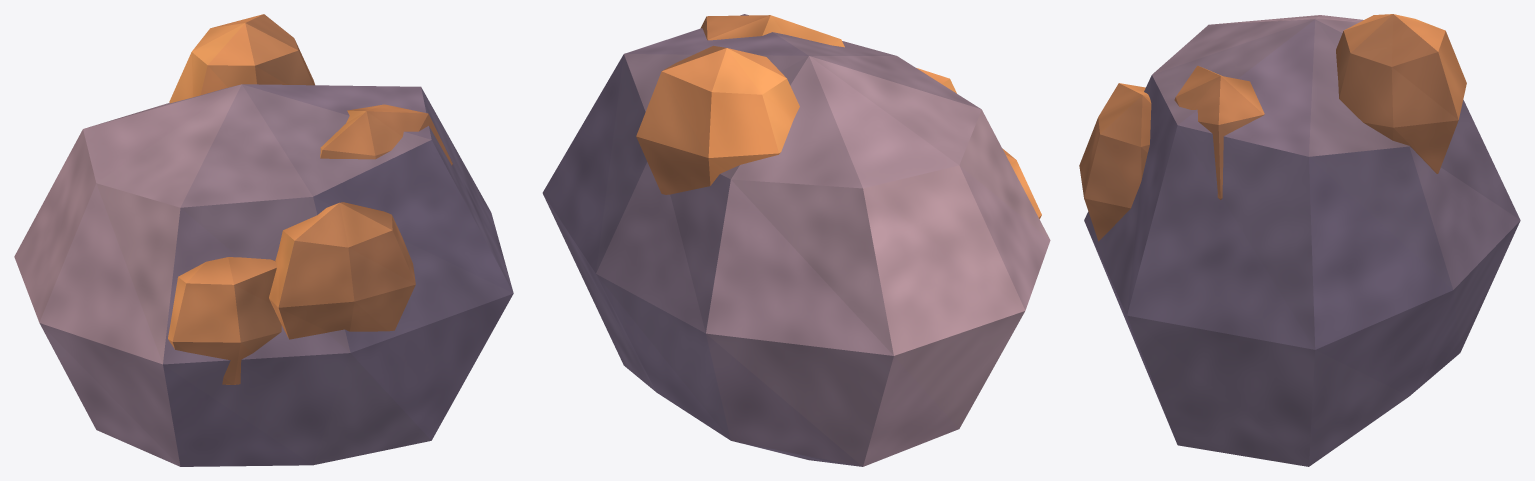
Rendered from resource_copper.glb.
3 views of the same model, side by side, from view 1: azimuth 30°, elevation 25°; view 2: azimuth 150°, elevation 25°; view 3: azimuth 270°, elevation 25° (orthographic). The views are drawn at different scales.
Visible parts, largest first — view 1: Kupferader mit freiliegendem Erz; view 2: Kupferader mit freiliegendem Erz; view 3: Kupferader mit freiliegendem Erz.
Part boxes in pixels (x1,y1,x2,y2): Kupferader mit freiliegendem Erz: [14, 14, 513, 466]; Kupferader mit freiliegendem Erz: [542, 14, 1050, 466]; Kupferader mit freiliegendem Erz: [1079, 14, 1520, 466].
Bounding box in the file's own units: 1.35 × 1.15 × 1.07.
Materials: 1 (1 with a texture image).
